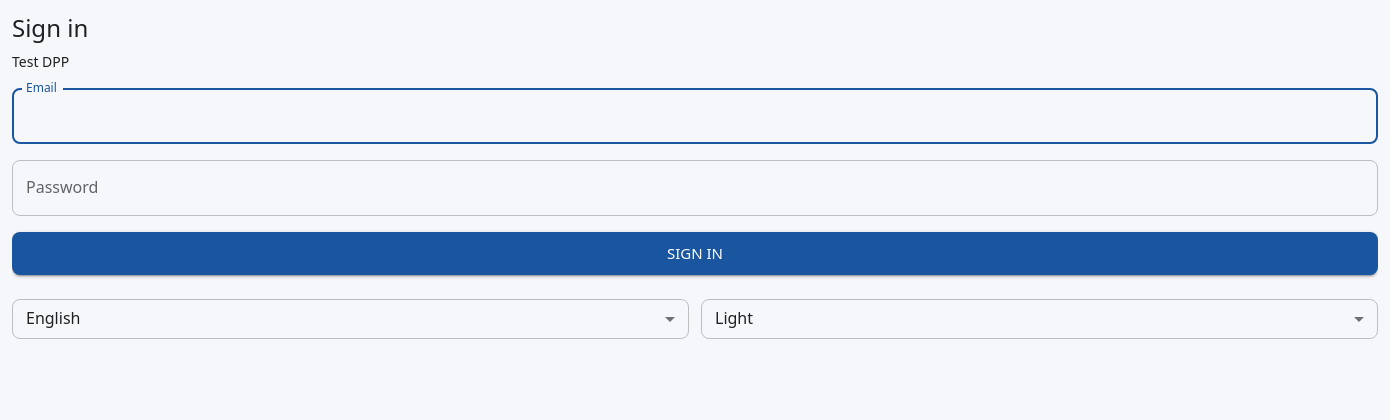
Test: LoginForm › shows API error on failed login
The width and height of the screenshot is (1390, 420).
In the field labelled "Email": (695, 116) top-left (12, 88), bottom-right (1378, 144), type "admin@example.com"
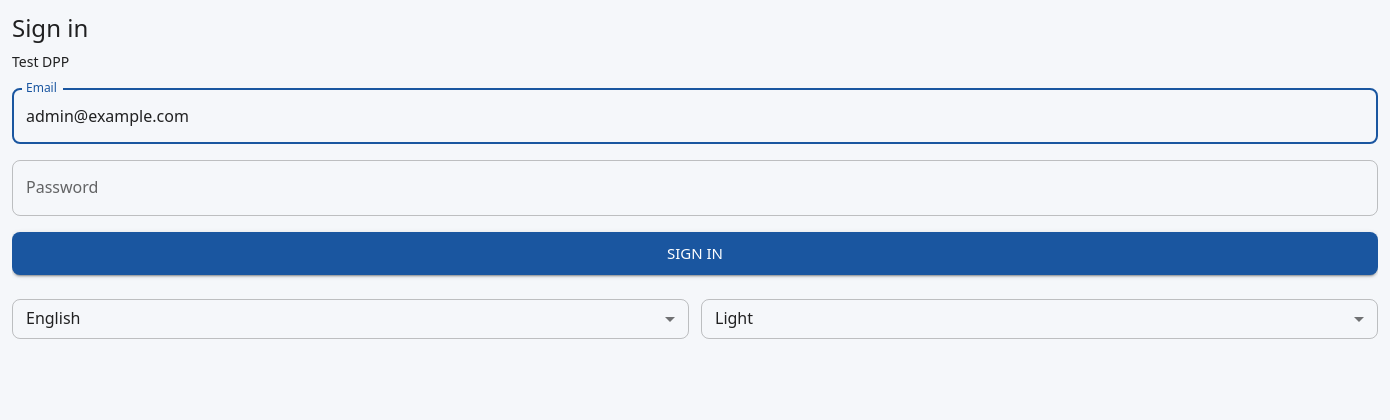
In the password field named "password": (695, 188) top-left (12, 160), bottom-right (1378, 216), type "wrong"
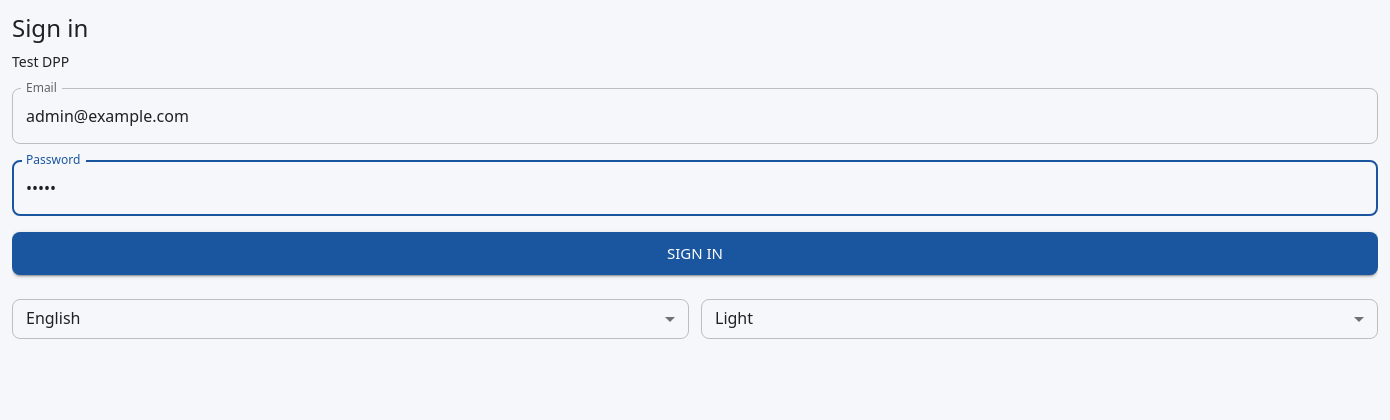
Click the button "Sign in": (695, 254) top-left (12, 232), bottom-right (1378, 275)
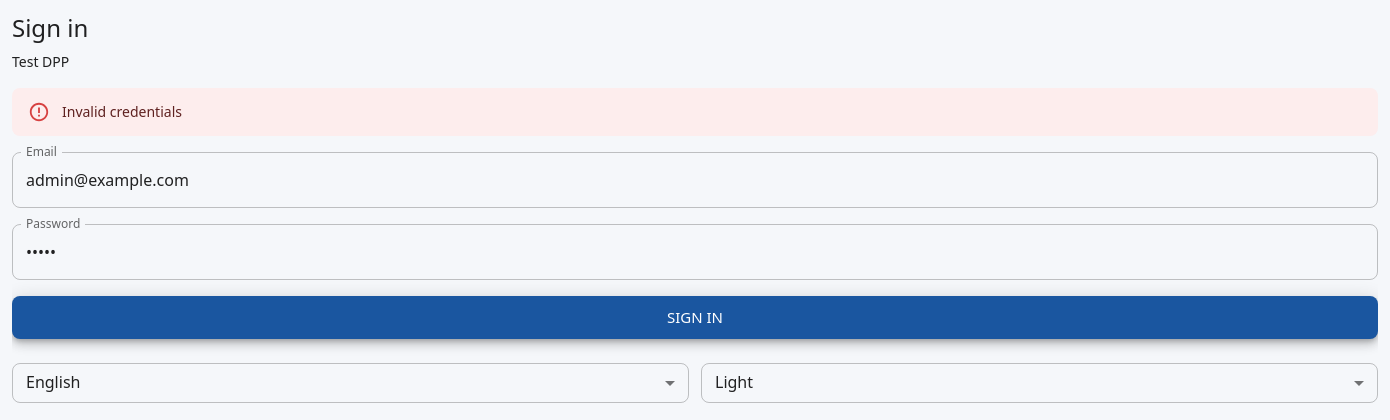
Expected: the text "Invalid credentials" is shown, top-left (62, 102), bottom-right (182, 121)
